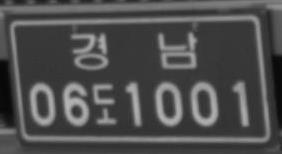0: (153, 79, 184, 129), (188, 80, 219, 128), (28, 81, 57, 129)
1: (228, 80, 256, 127), (122, 80, 147, 128)
6: (62, 81, 91, 129)
경남_D: (70, 30, 199, 72)
도: (91, 82, 119, 126)
